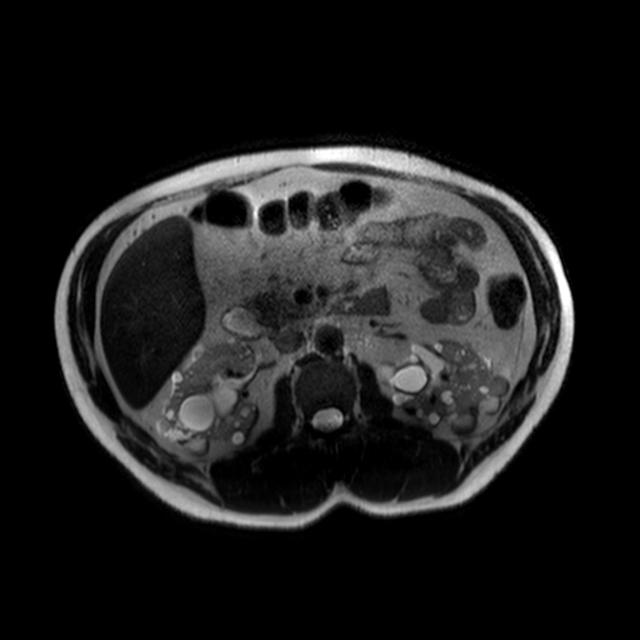sag: (156, 337, 262, 462)
sol: (374, 342, 511, 439)
